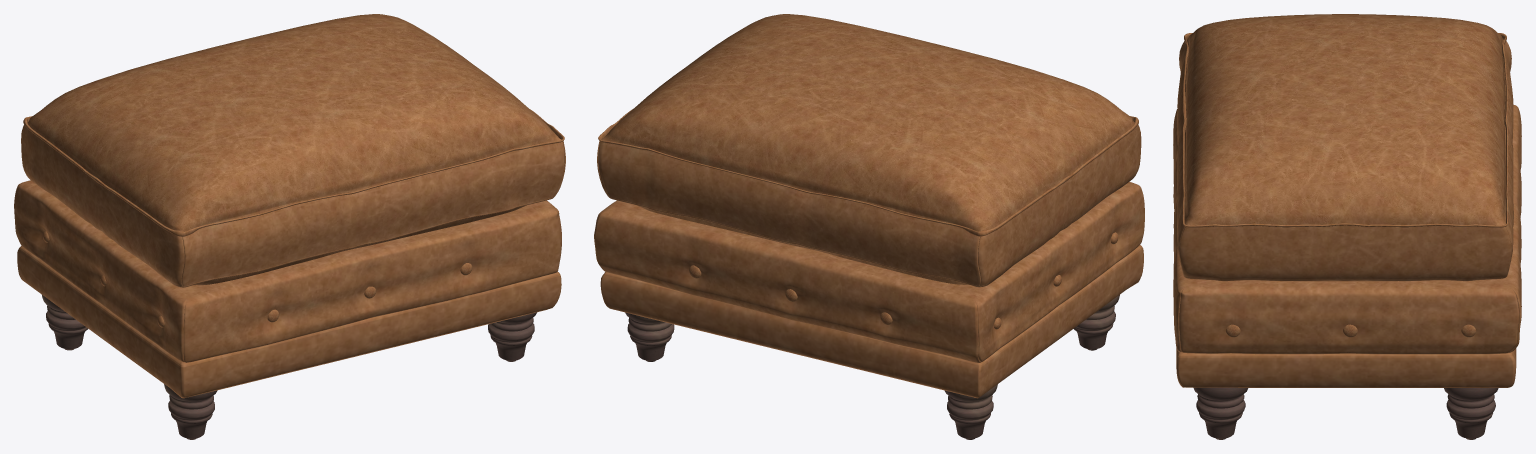
File: bradbury_chesterfield_leather_ottoman.glb
The picture shows the model from 3 angles, left to right: view 1: azimuth 30°, elevation 25°; view 2: azimuth 150°, elevation 25°; view 3: azimuth 270°, elevation 25°; orthographic projection. The views are drawn at different scales.
Visible parts, largest first — view 1: RootNode; view 2: RootNode; view 3: RootNode.
Boxes of the visible parts, x1,y1,x2,y2 form: RootNode: (14, 14, 565, 439); RootNode: (594, 14, 1144, 439); RootNode: (1173, 14, 1521, 439).
Size of the model in its own units: 0.7098 by 0.4797 by 0.5334.
Materials: 1 (1 with a texture image).
